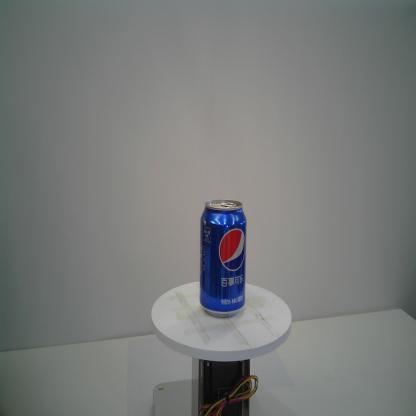Drink: (198, 197, 247, 318)
